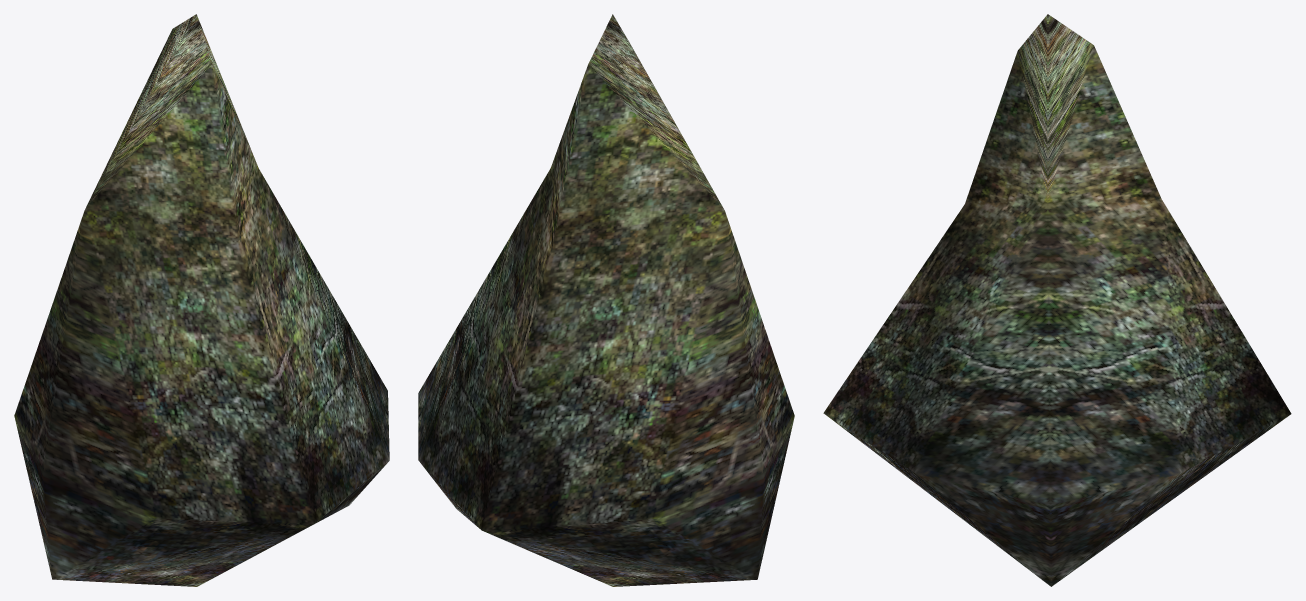
File: thm_all_cave_stalagmite_damprock_a2_l2.fbx
3 renders of one model, left to right at view 1: azimuth 30°, elevation 25°; view 2: azimuth 150°, elevation 25°; view 3: azimuth 270°, elevation 25°, orthographic. The views are drawn at different scales.
Parts seen in each view (by area): view 1: mesh_node; view 2: mesh_node; view 3: mesh_node.
Part boxes in pixels (x1=…): mesh_node: x1=14, y1=14, x2=389, y2=586; mesh_node: x1=418, y1=14, x2=794, y2=586; mesh_node: x1=823, y1=14, x2=1291, y2=586.
Bounding box in the file's own units: 0.8366 × 1.33 × 1.04.
